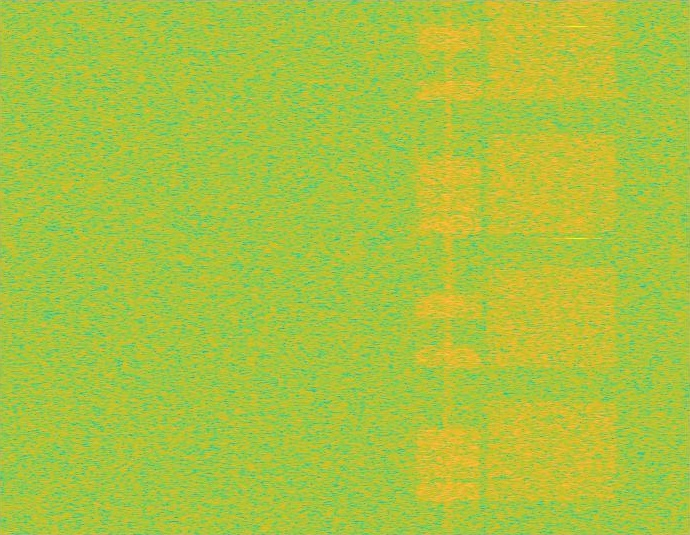5G: (483, 0, 621, 534)
DSSS: (444, 0, 453, 534)
LTE: (414, 0, 483, 534)
Radar: (570, 0, 584, 534)
